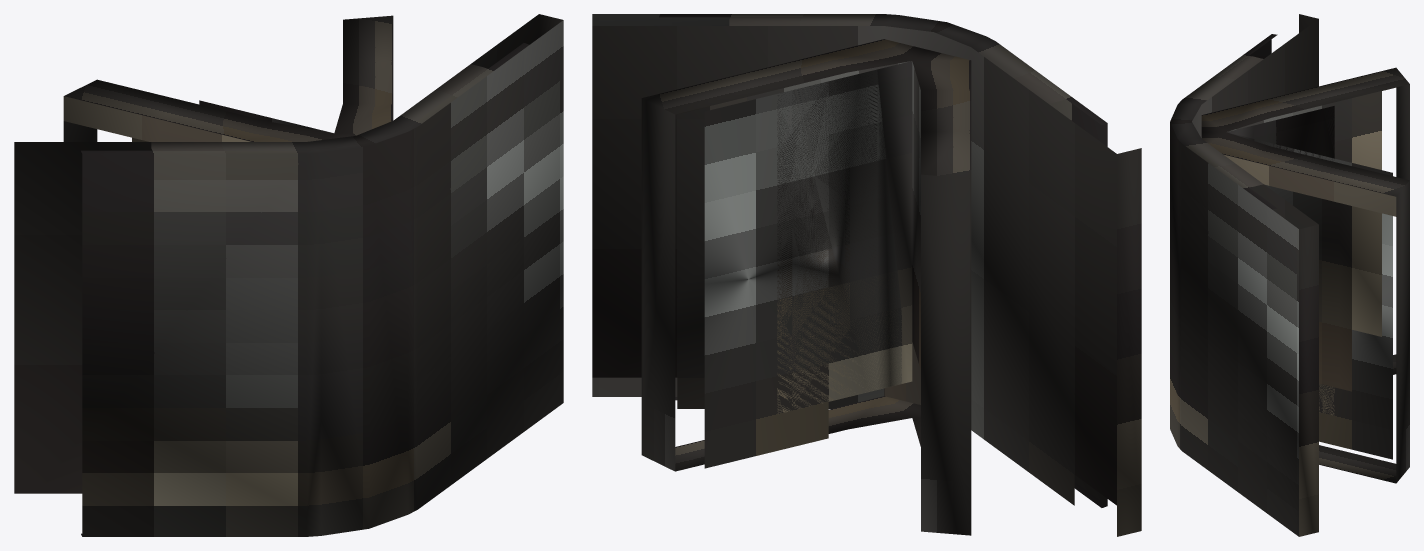
Rendered from bookofretribution.obj.
The picture shows the model from 3 angles, left to right: view 1: azimuth 30°, elevation 25°; view 2: azimuth 150°, elevation 25°; view 3: azimuth 270°, elevation 25°; orthographic projection. The views are drawn at different scales.
Visible parts, largest first — view 1: mesh; view 2: mesh; view 3: mesh.
Boxes of the visible parts, bbox=[...] form: mesh: bbox=[14, 14, 563, 536]; mesh: bbox=[592, 14, 1141, 536]; mesh: bbox=[1170, 14, 1409, 536].
Size of the model in its own units: 55.63 by 37.06 by 26.18.
